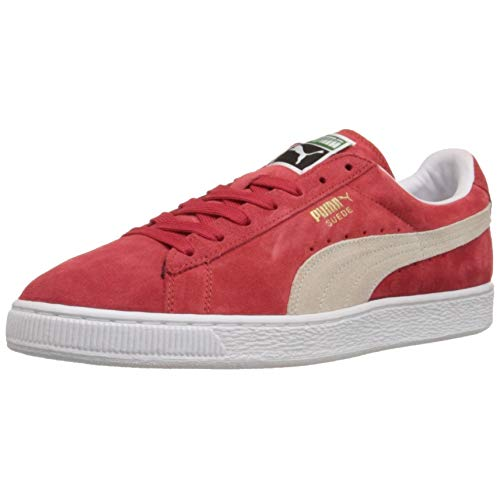Puma Suede Low Red: (3, 109, 497, 373)
